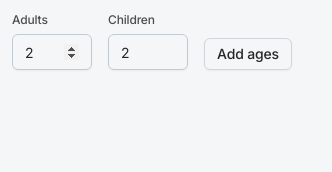
Test: TravellerCountsEditor › offers Add ages once there's a free children count, and converting seeds one row per child
Click the button "Add ages". click: click(248, 54)
box: [204,38,292,70]
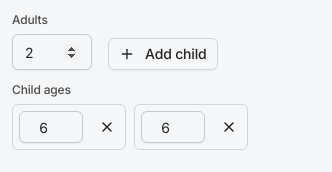
Expected: the number field labelled "Adults" holds "2", [12,34,92,70]
Expected: the number of number fields named "Child 1 age" is 2, [19,111,83,143]; [141,111,205,143]
